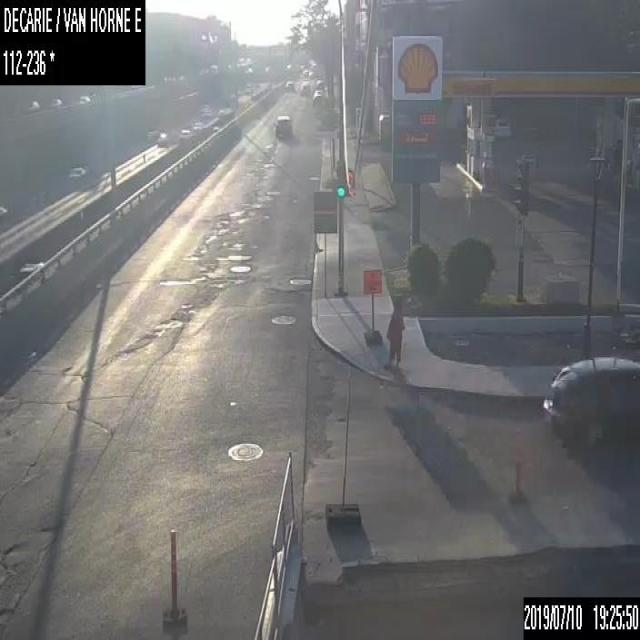construction: (253, 454, 639, 638), (161, 526, 187, 626), (361, 267, 381, 344), (507, 457, 526, 505)
pedestrian: (386, 305, 404, 372)
vehicle: (542, 354, 639, 438), (18, 262, 43, 282), (274, 114, 291, 138), (67, 166, 85, 180), (21, 100, 39, 112), (312, 89, 323, 107), (76, 92, 91, 104), (157, 131, 168, 146), (46, 96, 62, 105), (179, 128, 190, 139), (300, 82, 309, 94), (0, 204, 7, 218), (284, 80, 293, 90), (315, 79, 323, 89)
